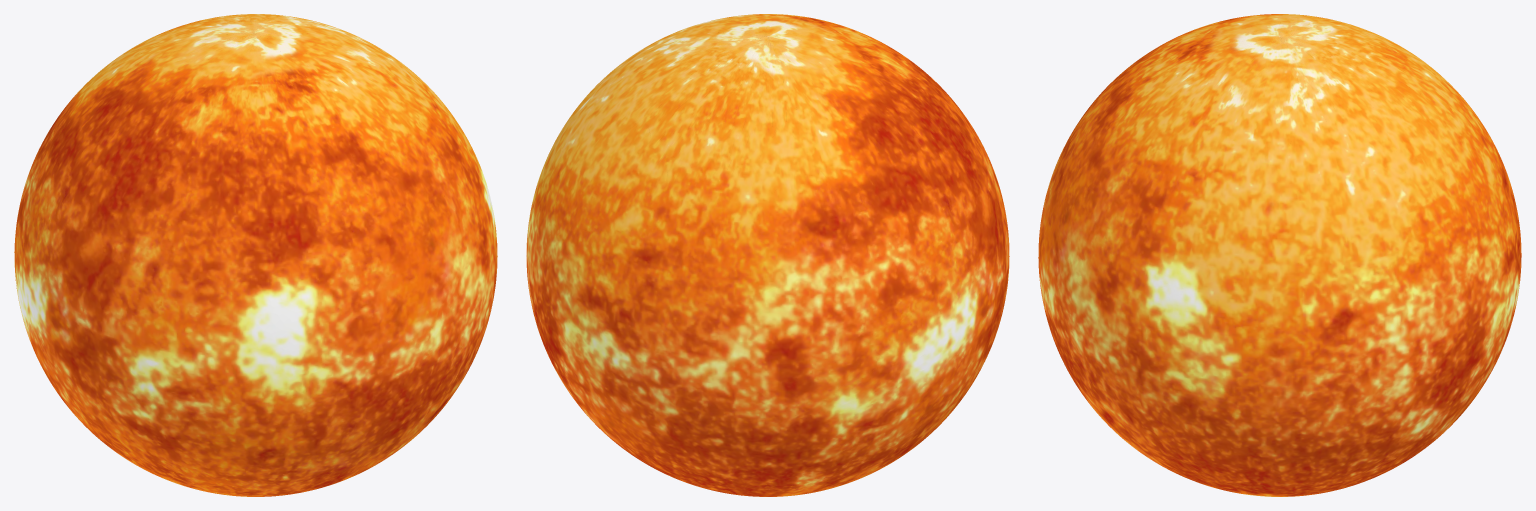
The model's file is sun.glb.
3 views of the same model, side by side, from view 1: azimuth 30°, elevation 25°; view 2: azimuth 150°, elevation 25°; view 3: azimuth 270°, elevation 25° (orthographic).
Visible parts, largest first — view 1: Object_2; view 2: Object_2; view 3: Object_2.
Boxes of the visible parts, <box> form: Object_2: <box>14,14,497,496</box>; Object_2: <box>526,14,1009,496</box>; Object_2: <box>1038,14,1521,496</box>.
Bounding box in the file's own units: 2000 × 2000 × 2000.
1 material, 1 textured.
